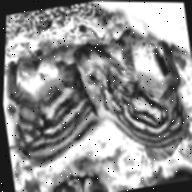boar: (65, 23, 192, 166), (1, 24, 115, 166)
